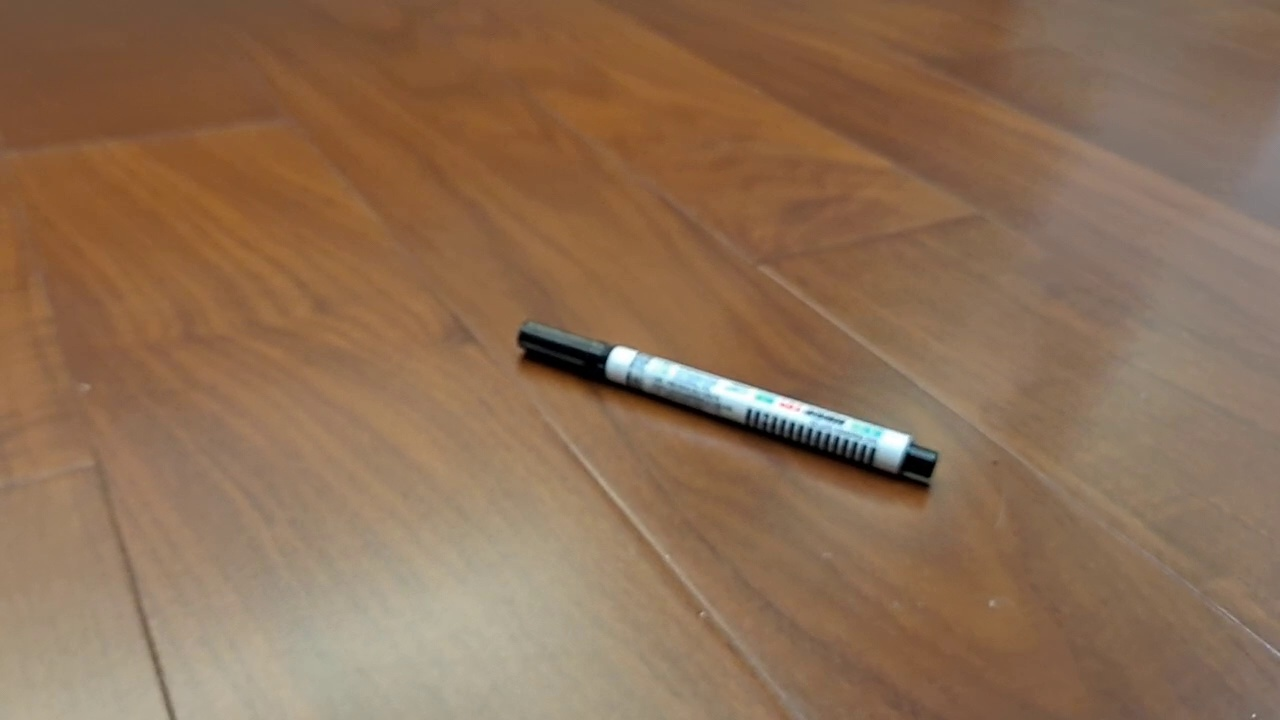pen: (516, 320, 940, 480)
